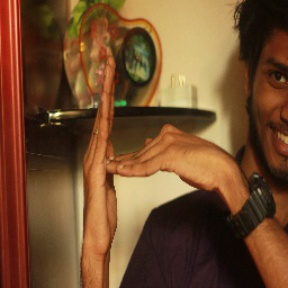Z: (74, 55, 224, 251)
